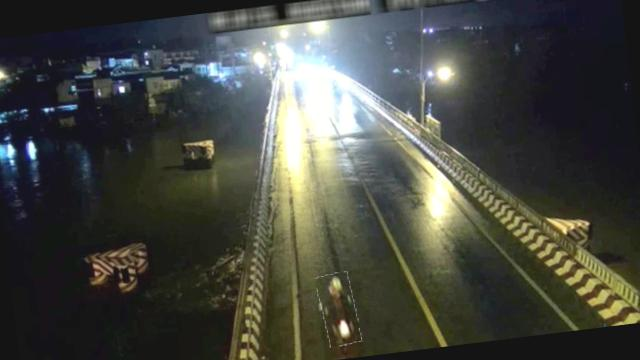Bike: (316, 270, 360, 347), (331, 76, 342, 91)
